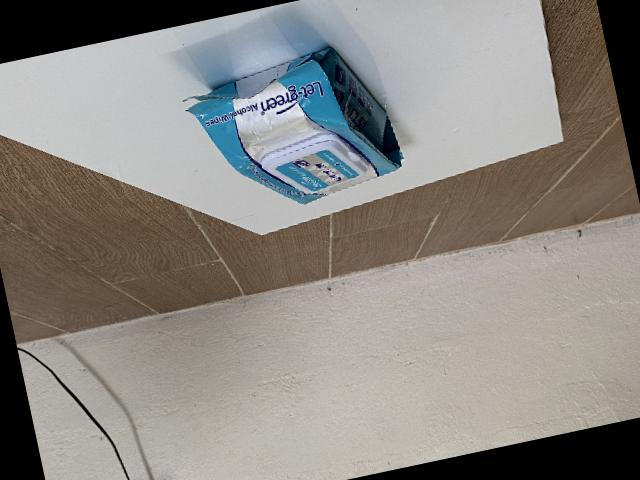Let-green_alcohol_wipes: (183, 46, 400, 202)
